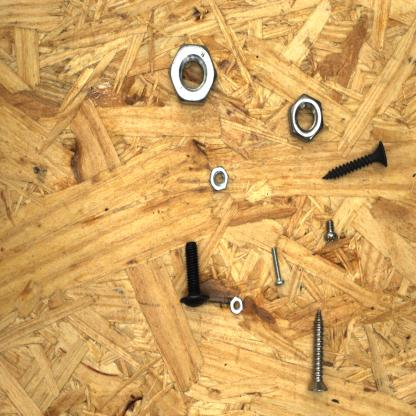screw: (319, 134, 393, 182), (176, 238, 214, 310), (304, 304, 333, 396), (267, 242, 290, 290), (322, 214, 338, 246)
